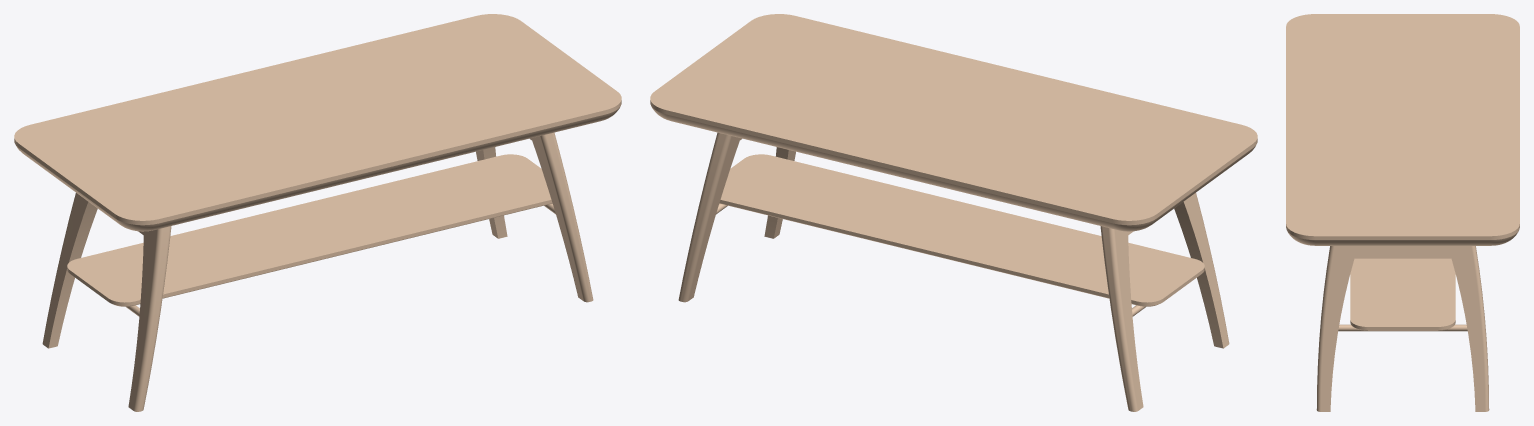
Rendered from 367_センターテーブル.glb.
3 renders of one model, left to right at view 1: azimuth 30°, elevation 25°; view 2: azimuth 150°, elevation 25°; view 3: azimuth 270°, elevation 25°, orthographic. The views are drawn at different scales.
Visible parts, largest first — view 1: 367_センターテーブル; view 2: 367_センターテーブル; view 3: 367_センターテーブル.
Part boxes in pixels (x1=…): 367_センターテーブル: x1=14, y1=14, x2=621, y2=411; 367_センターテーブル: x1=650, y1=14, x2=1257, y2=411; 367_センターテーブル: x1=1286, y1=14, x2=1519, y2=411.
Bounding box in the file's own units: 0.9 × 0.35 × 0.4.
